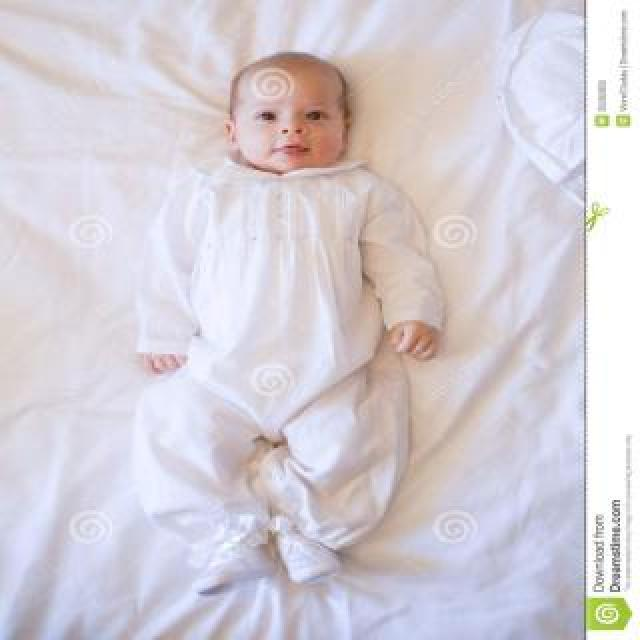baby: (120, 44, 450, 584)
